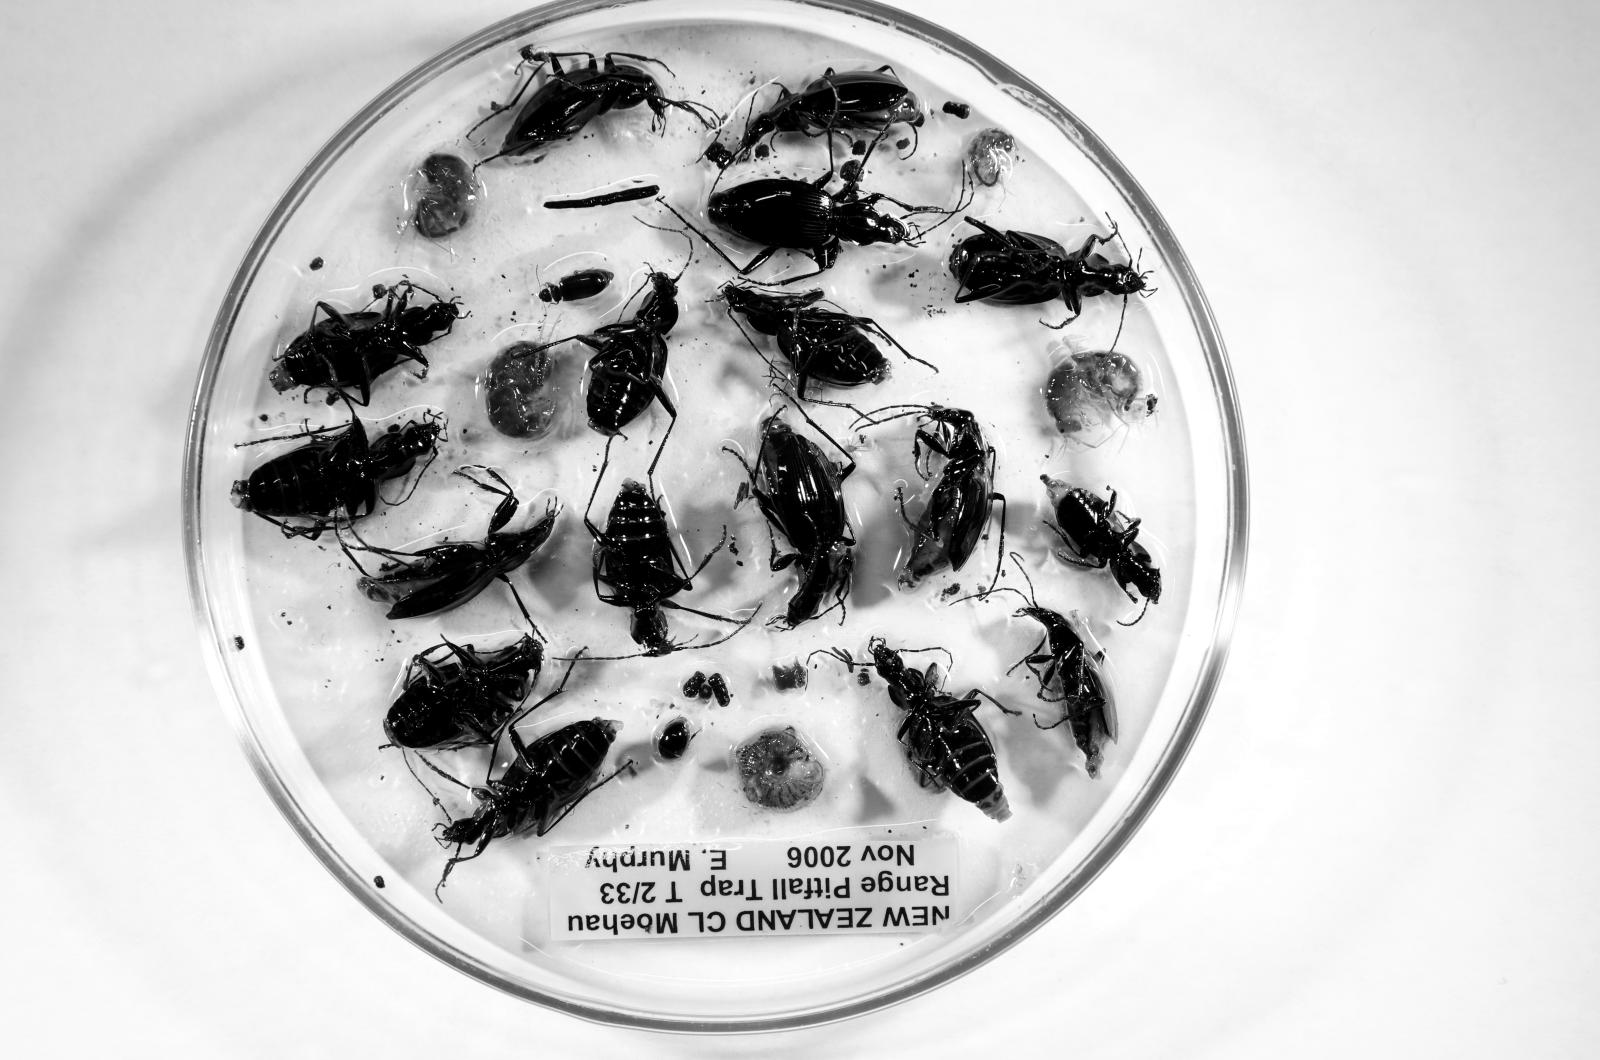amphipoda: (1044, 350, 1144, 438), (484, 341, 557, 439), (415, 153, 480, 240), (964, 128, 1017, 187)
carabidae: (232, 409, 443, 539), (869, 639, 1011, 821), (359, 491, 558, 620), (438, 718, 622, 855), (271, 282, 460, 406), (500, 50, 713, 156), (751, 416, 855, 628), (723, 284, 894, 400), (948, 216, 1145, 317), (896, 406, 1004, 589), (708, 177, 912, 273), (589, 478, 692, 655), (384, 635, 543, 749), (1016, 606, 1116, 776), (576, 272, 679, 437), (741, 66, 925, 151), (1041, 474, 1161, 603)
coleoptera: (538, 269, 614, 303), (653, 717, 692, 762)
gastropoda: (734, 726, 825, 810)
